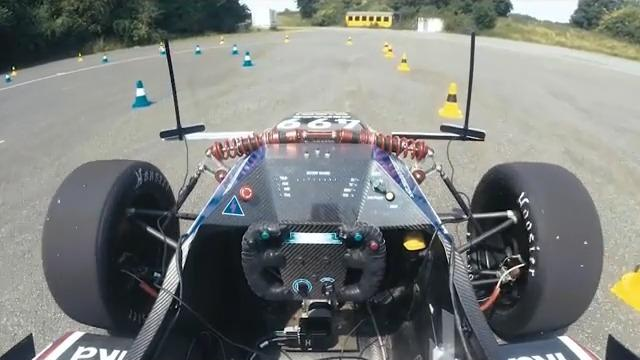blue_cone: (129, 75, 155, 111), (229, 42, 255, 69)
yellow_cone: (434, 78, 469, 125), (382, 40, 408, 69)
